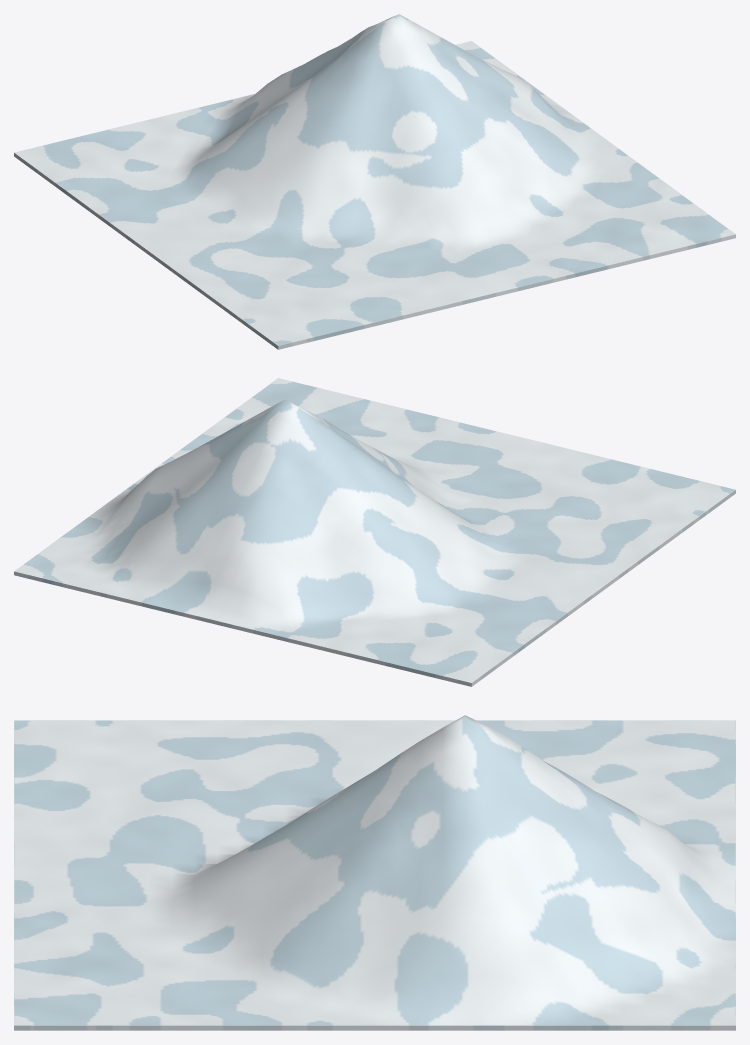
Rendered from Snow_Mountains_09.obj.
3 renders of one model, top to bottom at view 1: azimuth 30°, elevation 25°; view 2: azimuth 150°, elevation 25°; view 3: azimuth 270°, elevation 25°, orthographic. The views are drawn at different scales.
Size of the model in its own units: 10 by 3.03 by 10.
Materials: 1 (1 with a texture image).
